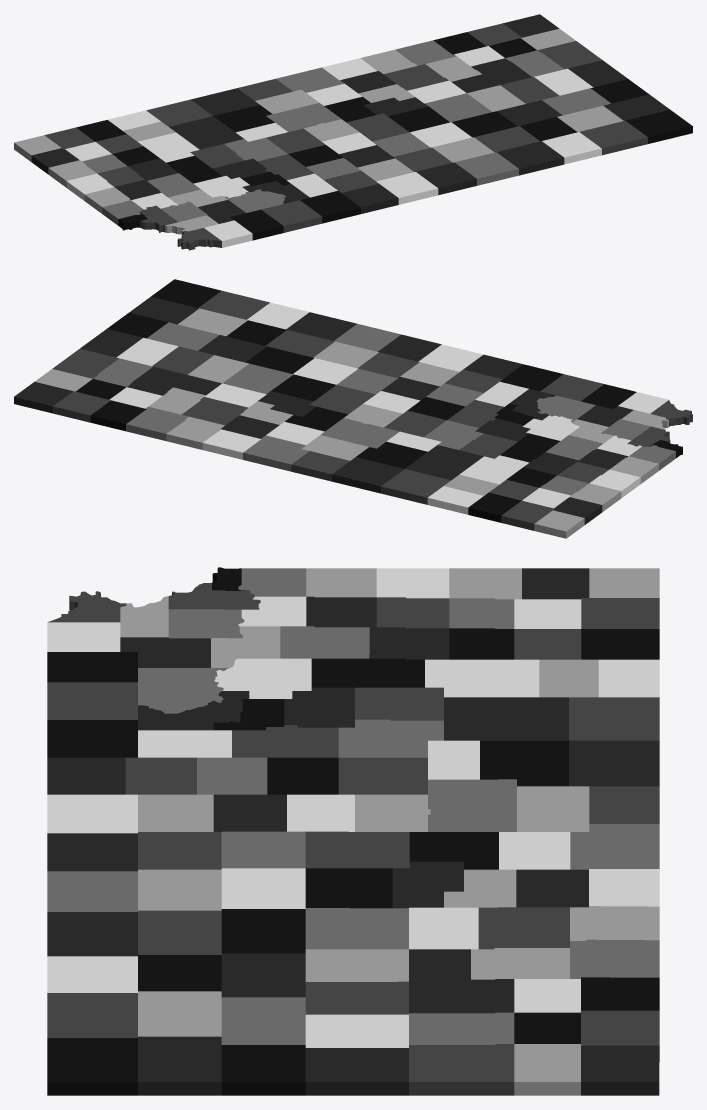
File: Kansas_Counties_3D.fbx
The picture shows the model from 3 angles, top to bottom: view 1: azimuth 30°, elevation 25°; view 2: azimuth 150°, elevation 25°; view 3: azimuth 270°, elevation 25°; orthographic projection. The views are drawn at different scales.
Visible parts, largest first — view 1: KS_Finney_County_3D, KS_Butler_County_3D, KS_Rawlins_County_3D, KS_Norton_County_3D, KS_Cheyenne_County_3D, KS_Phillips_County_3D, KS_Reno_County_3D, KS_Jewell_County_3D, KS_Marshall_County_3D, KS_Smith_County_3D, KS_Washington_County_3D, KS_Decatur_County_3D (+92 smaller); view 2: KS_Finney_County_3D, KS_Butler_County_3D, KS_Sumner_County_3D, KS_Barber_County_3D, KS_Cowley_County_3D, KS_Reno_County_3D, KS_Meade_County_3D, KS_Ness_County_3D, KS_Greenwood_County_3D, KS_Rawlins_County_3D, KS_Norton_County_3D, KS_Logan_County_3D (+92 smaller); view 3: KS_Finney_County_3D, KS_Butler_County_3D, KS_Hamilton_County_3D, KS_Cheyenne_County_3D, KS_Sherman_County_3D, KS_Greeley_County_3D, KS_Reno_County_3D, KS_Ness_County_3D, KS_Wallace_County_3D, KS_Greenwood_County_3D, KS_Sumner_County_3D, KS_Norton_County_3D (+92 smaller).
Part boxes in pixels (<box>): KS_Finney_County_3D: <box>452,58,531,92</box>; KS_Butler_County_3D: <box>169,116,243,149</box>; KS_Rawlins_County_3D: <box>579,120,647,155</box>; KS_Norton_County_3D: <box>496,141,564,175</box>; KS_Cheyenne_County_3D: <box>626,109,692,143</box>; KS_Phillips_County_3D: <box>455,152,518,185</box>; KS_Reno_County_3D: <box>266,103,341,131</box>; KS_Jewell_County_3D: <box>376,172,438,204</box>; KS_Marshall_County_3D: <box>261,200,322,232</box>; KS_Smith_County_3D: <box>416,162,476,195</box>; KS_Washington_County_3D: <box>300,191,360,223</box>; KS_Decatur_County_3D: <box>542,132,601,164</box>; KS_Finney_County_3D: <box>127,366,221,395</box>; KS_Butler_County_3D: <box>405,445,483,480</box>; KS_Sumner_County_3D: <box>332,457,403,493</box>; KS_Barber_County_3D: <box>243,435,309,471</box>; KS_Cowley_County_3D: <box>381,469,450,504</box>; KS_Reno_County_3D: <box>321,418,399,448</box>; KS_Meade_County_3D: <box>126,406,188,440</box>; KS_Ness_County_3D: <box>222,363,293,393</box>; KS_Greenwood_County_3D: <box>459,455,529,484</box>; KS_Rawlins_County_3D: <box>198,290,269,319</box>; KS_Norton_County_3D: <box>286,312,356,340</box>; KS_Logan_County_3D: <box>147,322,219,350</box>; KS_Finney_County_3D: <box>409,949,514,1013</box>; KS_Butler_County_3D: <box>444,697,568,740</box>; KS_Hamilton_County_3D: <box>409,1044,514,1095</box>; KS_Cheyenne_County_3D: <box>47,1038,137,1095</box>; KS_Sherman_County_3D: <box>138,1036,221,1095</box>; KS_Greeley_County_3D: <box>305,1048,408,1095</box>; KS_Reno_County_3D: <box>428,779,516,831</box>; KS_Ness_County_3D: <box>305,908,408,949</box>; KS_Wallace_County_3D: <box>221,1045,305,1095</box>; KS_Greenwood_County_3D: <box>425,659,539,697</box>; KS_Sumner_County_3D: <box>569,740,659,786</box>; KS_Norton_County_3D: <box>47,912,137,956</box>.
Size of the model in its own units: 798 by 10 by 401.
